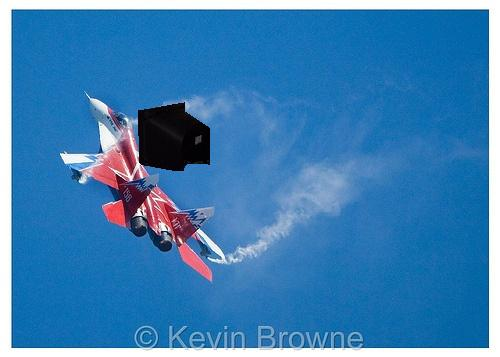tampered: (139, 103, 210, 171)
